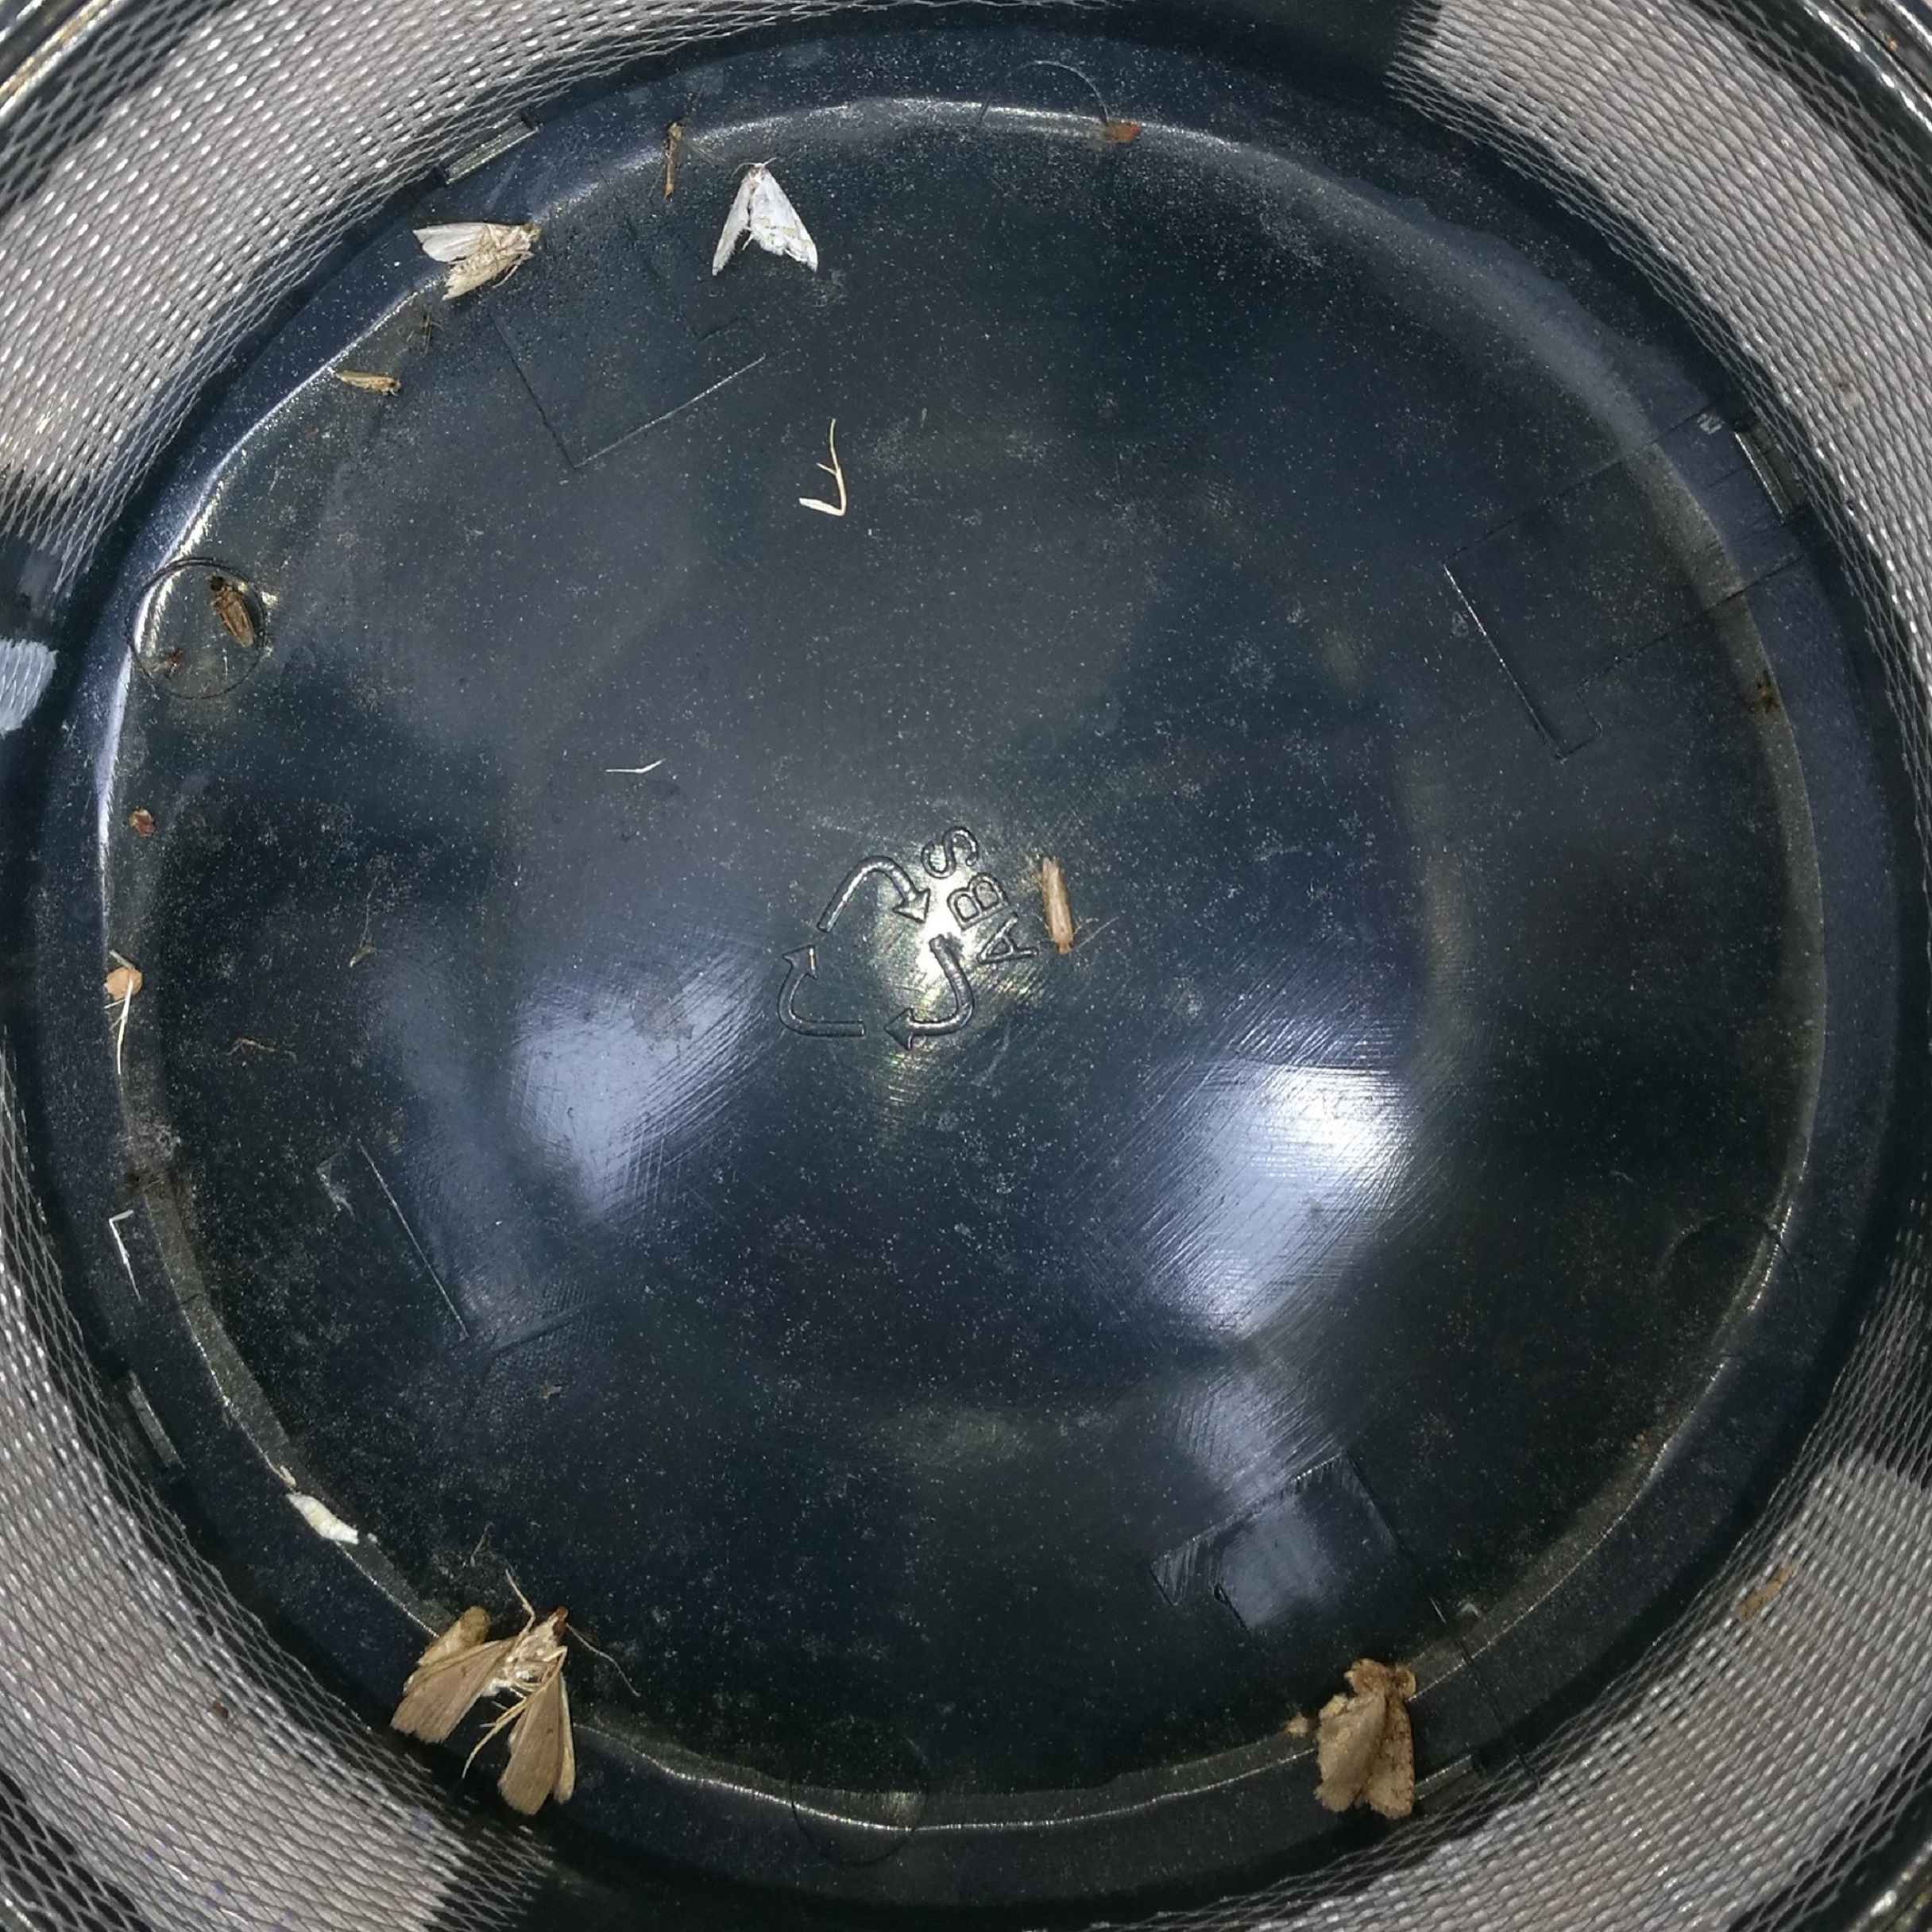mosquito: (198, 580, 258, 646)
moth: (395, 1608, 580, 1806), (405, 218, 529, 294)
